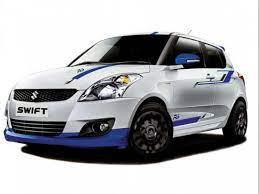Hatchback: (3, 30, 249, 160)
